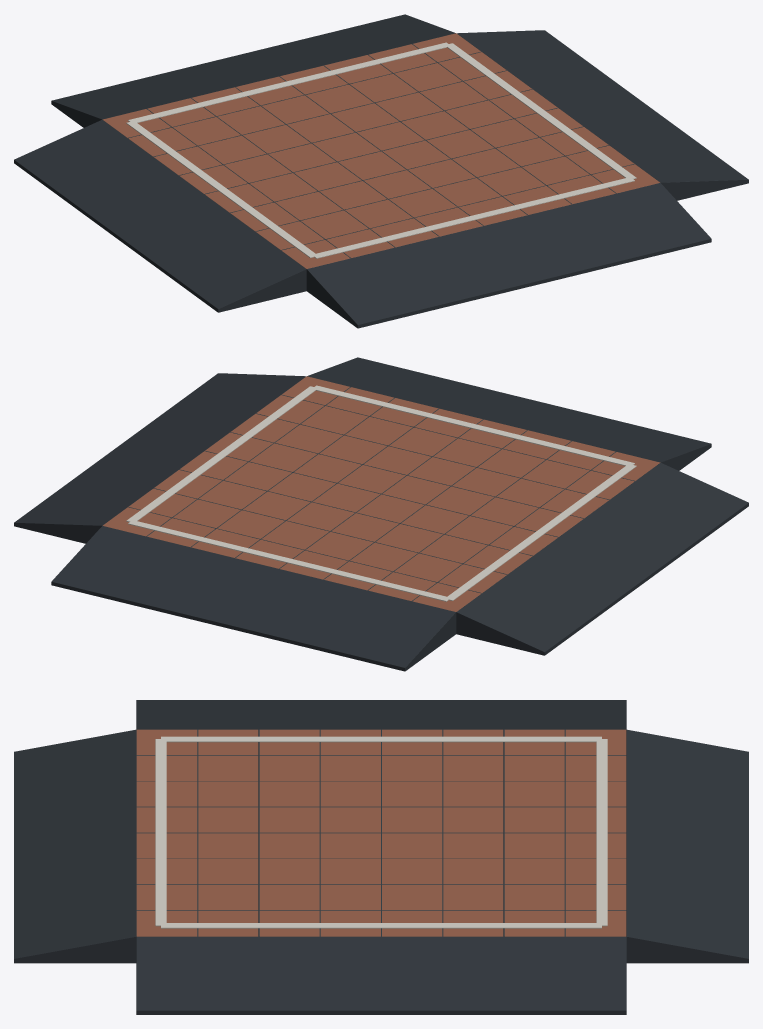
File: b13_raised_neighborhood_intersection.glb
The picture shows the model from 3 angles, top to bottom: view 1: azimuth 30°, elevation 25°; view 2: azimuth 150°, elevation 25°; view 3: azimuth 270°, elevation 25°; orthographic projection. The views are drawn at different scales.
Parts seen in each view (by area): view 1: b13_raised_neighborhood_intersection; view 2: b13_raised_neighborhood_intersection; view 3: b13_raised_neighborhood_intersection.
Part boxes in pixels (x1,y1,x2,y2): b13_raised_neighborhood_intersection: (14, 14, 748, 328); b13_raised_neighborhood_intersection: (14, 357, 748, 671); b13_raised_neighborhood_intersection: (14, 700, 748, 1014).
Bounding box in the file's own units: 6 × 0.25 × 6.
